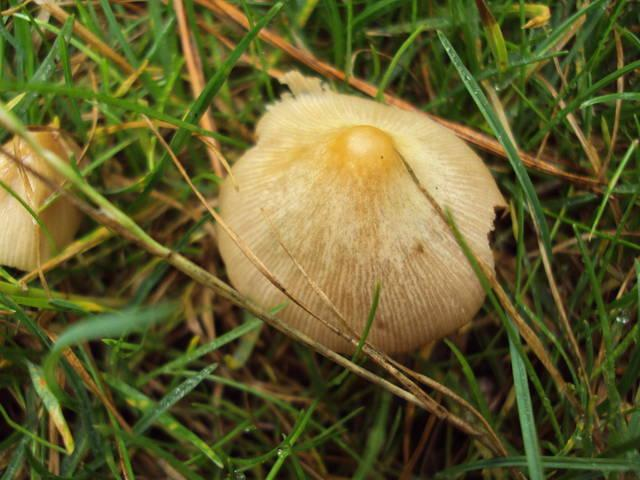Edible Mushroom: (215, 73, 508, 360), (0, 124, 88, 272)
